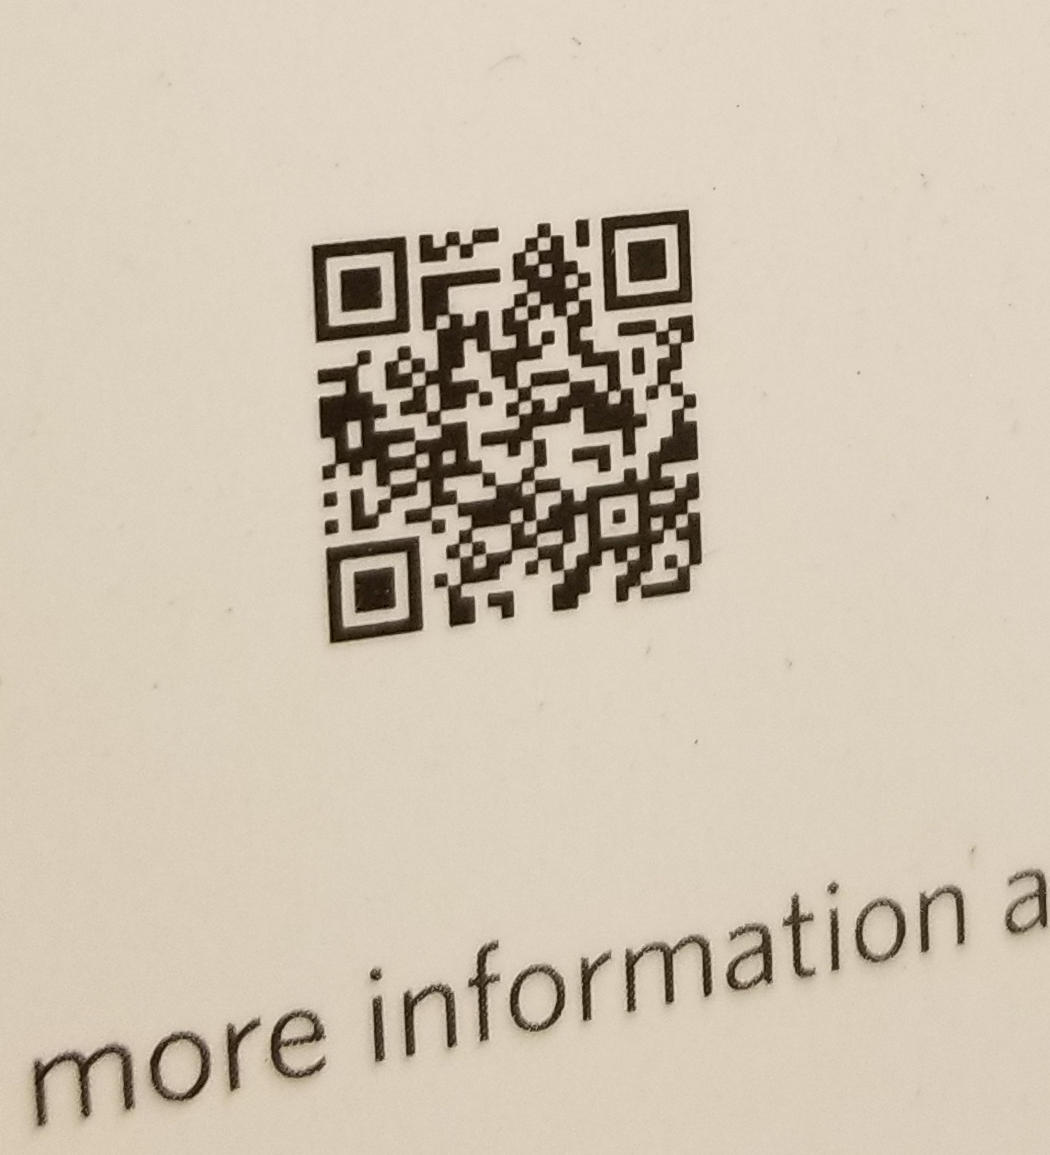QR_CODE: (277, 174, 734, 671)
